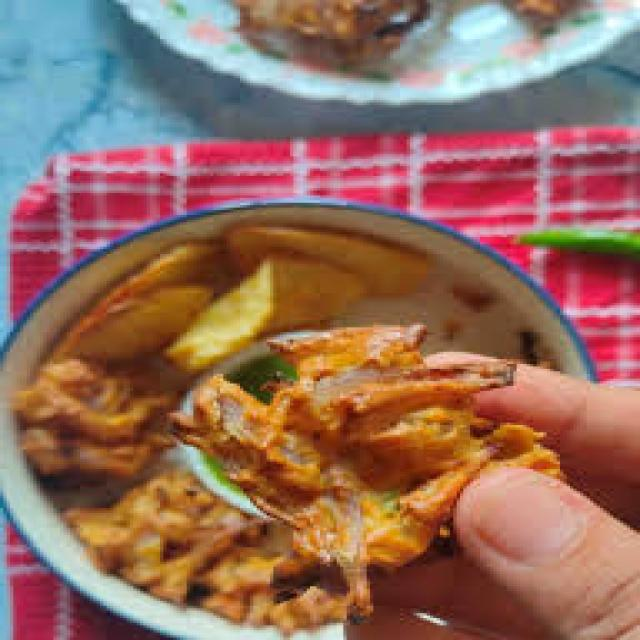BAJI: (200, 332, 492, 571), (81, 467, 296, 616), (18, 376, 145, 487)
